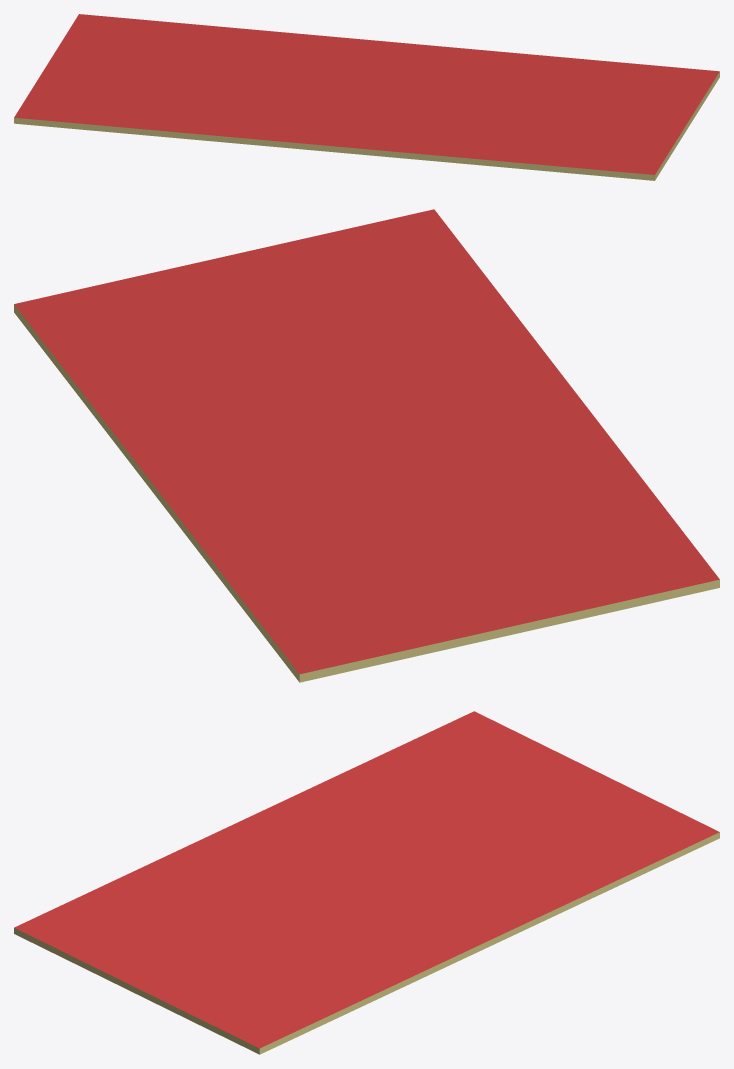
3 views of the same model, one above another, from view 1: azimuth 30°, elevation 25°; view 2: azimuth 150°, elevation 25°; view 3: azimuth 270°, elevation 25° (orthographic). The views are drawn at different scales.
Bounding box in the file's own units: 10.66 × 10.27 × 0.543.
